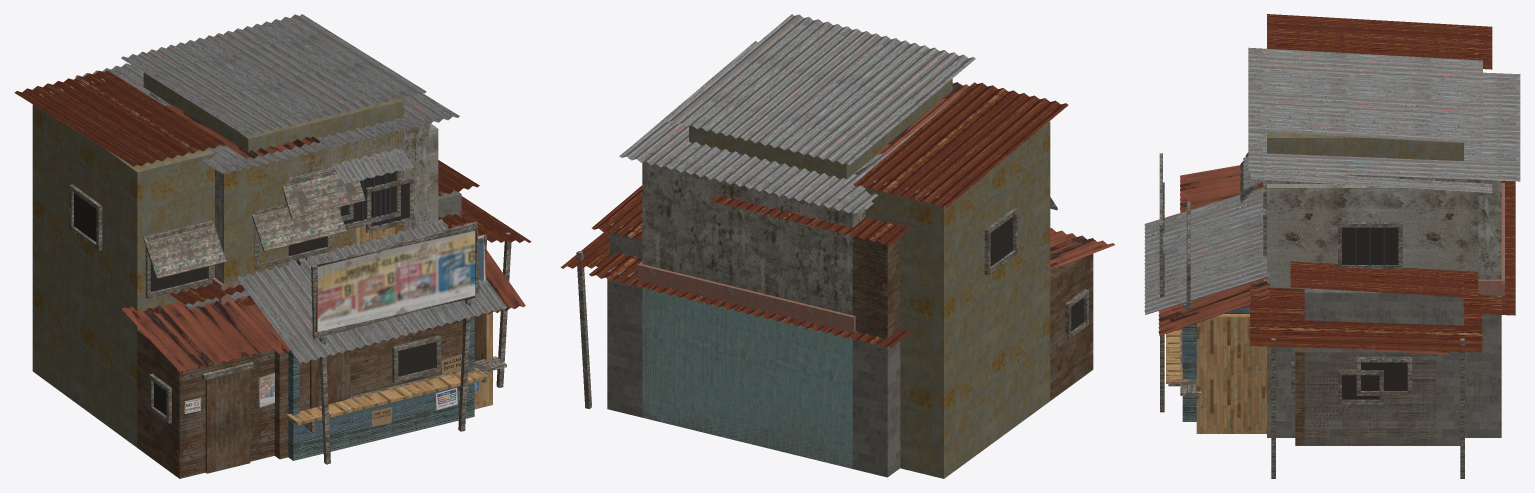
The model's file is house_variants.glb.
3 renders of one model, left to right at view 1: azimuth 30°, elevation 25°; view 2: azimuth 150°, elevation 25°; view 3: azimuth 270°, elevation 25°, orthographic. The views are drawn at different scales.
Parts seen in each view (by area): view 1: House_V1_Tindahan, House_V4_Tall, House_V2_Blue, House_V3_Tindahan; view 2: House_V1_Tindahan, House_V2_Blue, House_V4_Tall, House_V3_Tindahan; view 3: House_V1_Tindahan, House_V4_Tall, House_V3_Tindahan, House_V2_Blue, House_V6_CHB.
Boxes of the visible parts, <box> form: House_V1_Tindahan: <box>14,70,531,478</box>; House_V4_Tall: <box>121,14,479,459</box>; House_V2_Blue: <box>75,63,452,304</box>; House_V3_Tindahan: <box>170,214,525,409</box>; House_V1_Tindahan: <box>561,41,1114,478</box>; House_V2_Blue: <box>619,76,969,468</box>; House_V4_Tall: <box>592,14,975,258</box>; House_V3_Tindahan: <box>589,195,910,477</box>; House_V1_Tindahan: <box>1144,14,1492,478</box>; House_V4_Tall: <box>1192,47,1482,445</box>; House_V3_Tindahan: <box>1158,181,1515,437</box>; House_V2_Blue: <box>1243,72,1520,295</box>; House_V6_CHB: <box>1291,347,1449,445</box>.
Bounding box in the file's own units: 9 × 7.25 × 8.01.
Materials: 24 (21 with a texture image).
